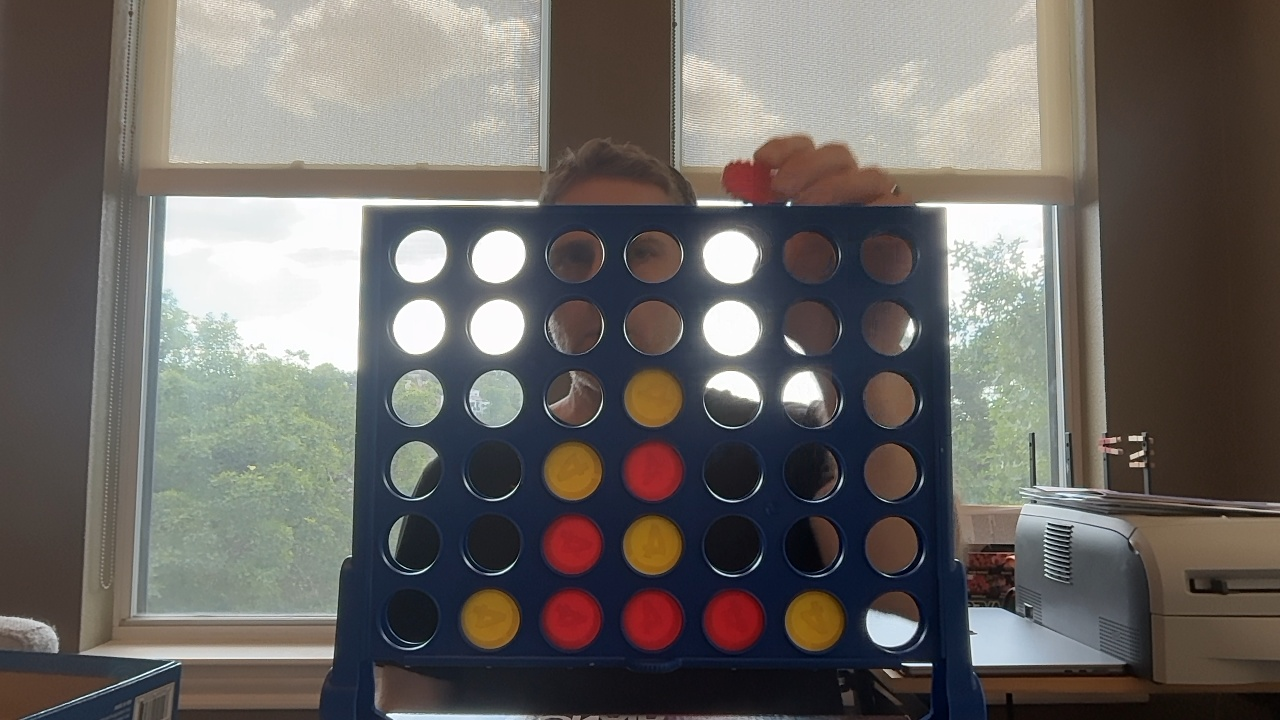red piece: (703, 589, 764, 652), (541, 588, 602, 651), (622, 589, 683, 651), (542, 514, 602, 575), (623, 440, 683, 501)
yellow piece: (785, 590, 845, 651), (623, 515, 682, 575), (460, 589, 519, 649), (543, 441, 602, 500), (624, 368, 682, 427)
